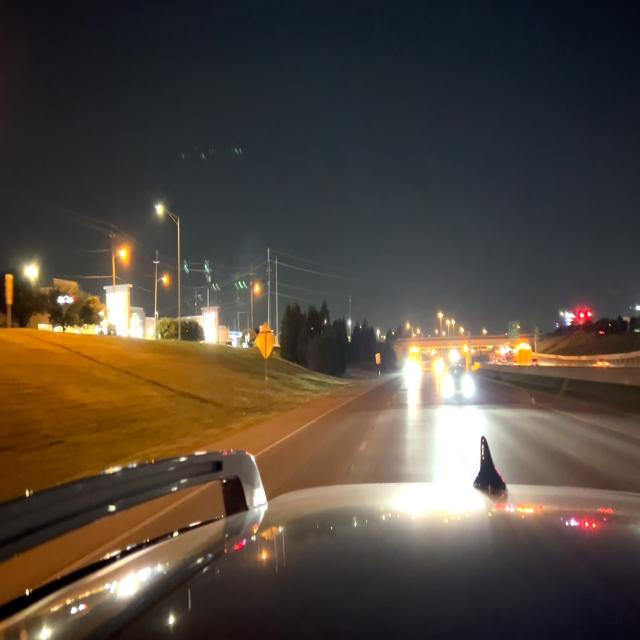back-of-sign: (256, 325, 276, 360)
